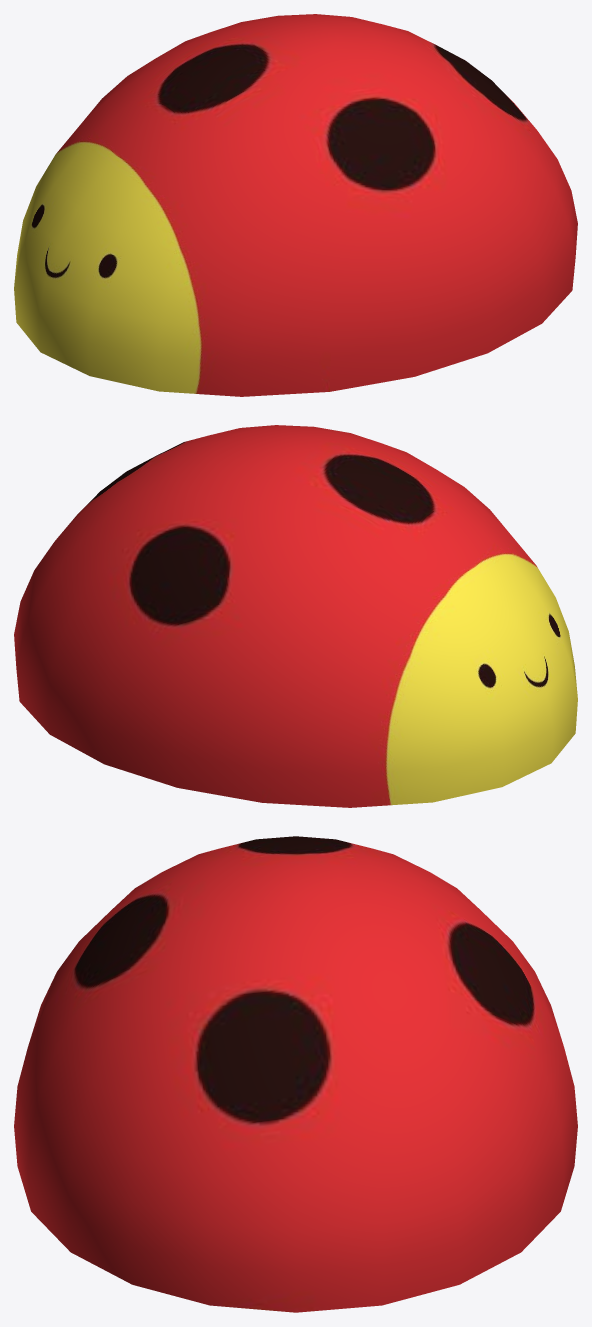
The model's file is EnemyNatureBug.fbx.
The picture shows the model from 3 angles, top to bottom: view 1: azimuth 30°, elevation 25°; view 2: azimuth 150°, elevation 25°; view 3: azimuth 270°, elevation 25°; orthographic projection. The views are drawn at different scales.
Visible parts, largest first — view 1: NaturalEnemyLadyBug1; view 2: NaturalEnemyLadyBug1; view 3: NaturalEnemyLadyBug1.
Part boxes in pixels (x1,y1,x2,y2): NaturalEnemyLadyBug1: (14,14,577,396); NaturalEnemyLadyBug1: (14,425,577,807); NaturalEnemyLadyBug1: (14,836,577,1312).
Size of the model in its own units: 1.45 by 0.677 by 1.17.
